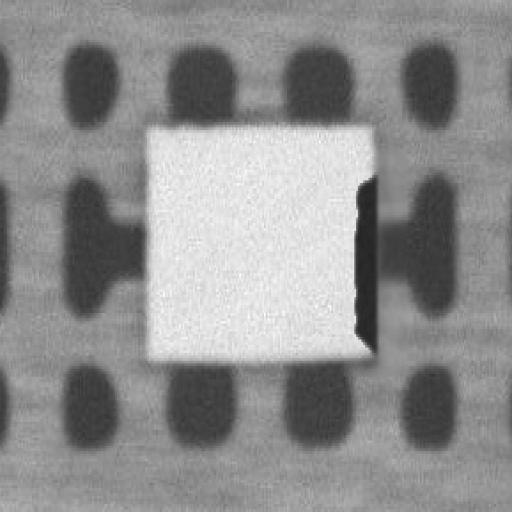DIE_BROKEN: (346, 170, 376, 347)
